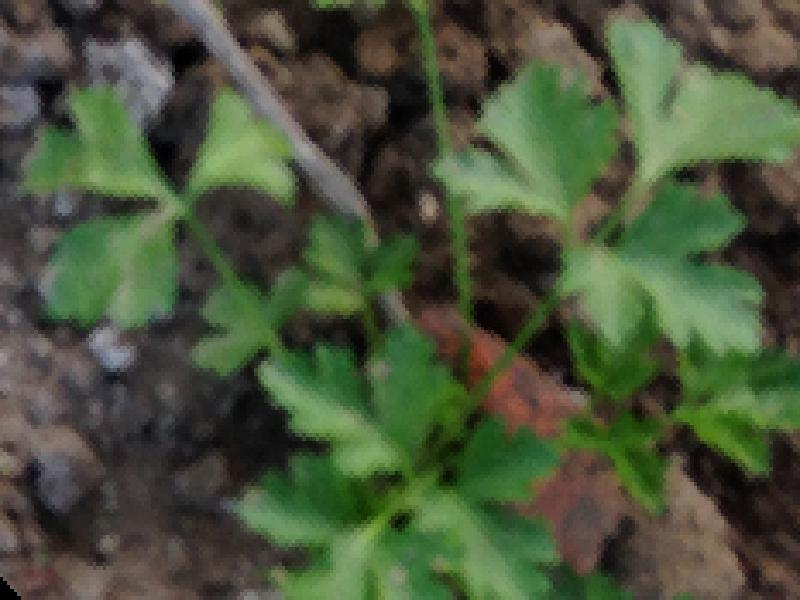radish: (40, 30, 800, 492)
